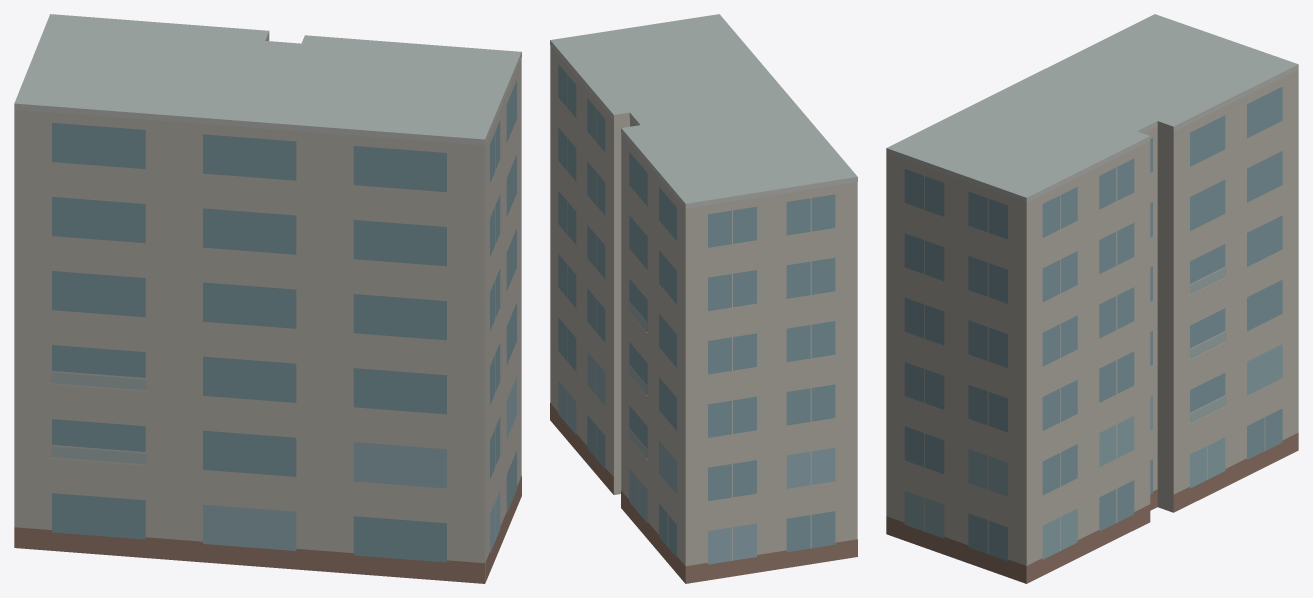
Rendered from survey-upis-33006327.glb.
The picture shows the model from 3 angles, left to right: view 1: azimuth 30°, elevation 25°; view 2: azimuth 150°, elevation 25°; view 3: azimuth 270°, elevation 25°; orthographic projection. The views are drawn at different scales.
Visible parts, largest first — view 1: survey-upis-33006327.tmp; view 2: survey-upis-33006327.tmp; view 3: survey-upis-33006327.tmp.
Part boxes in pixels (x1,y1,x2,y2): survey-upis-33006327.tmp: (14, 14, 521, 583); survey-upis-33006327.tmp: (550, 14, 857, 583); survey-upis-33006327.tmp: (886, 14, 1298, 583).
Bounding box in the file's own units: 18.69 × 18.3 × 17.72.
